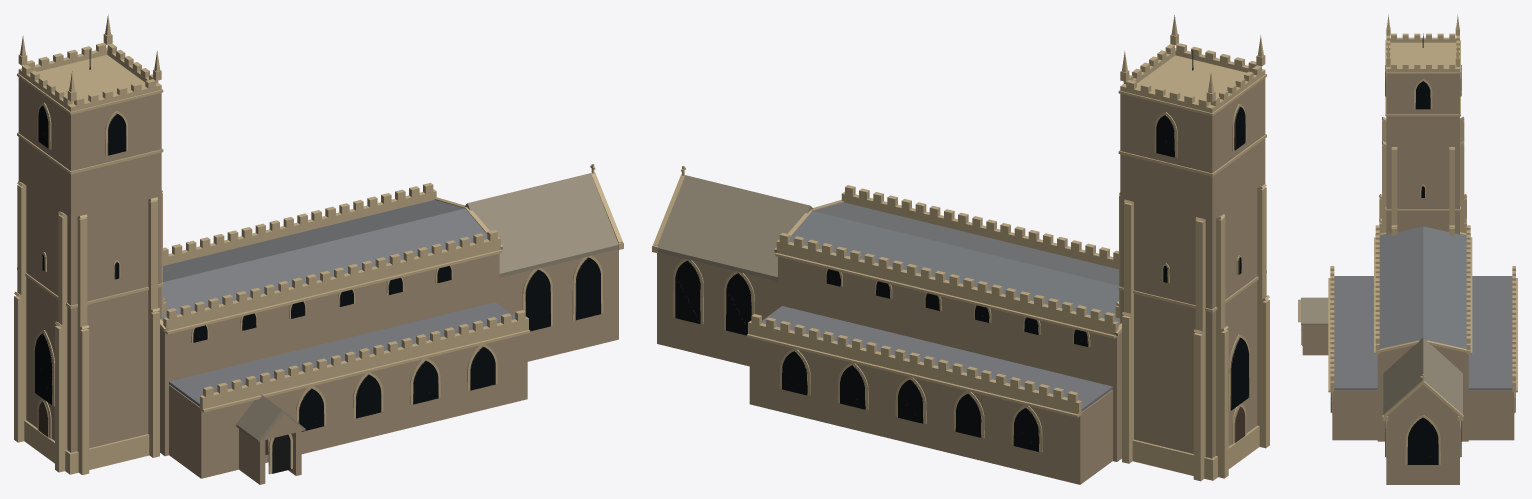
File: context.church.cots_wool.glb
3 renders of one model, left to right at view 1: azimuth 30°, elevation 25°; view 2: azimuth 150°, elevation 25°; view 3: azimuth 270°, elevation 25°, orthographic. The views are drawn at different scales.
Visible parts, largest first — view 1: main__stone_a97, main__stone_ca8, main__clad_778, main__clad_987, main__glass_dark, main__stone_986, main__timber_111; view 2: main__stone_a97, main__stone_ca8, main__clad_778, main__glass_dark, main__clad_987, main__stone_986; view 3: main__stone_a97, main__clad_778, main__stone_ca8, main__clad_987, main__glass_dark, main__stone_986.
Boxes of the visible parts, box(x1,y1,x2,y2) form: main__stone_a97: box(18, 77, 618, 484); main__stone_ca8: box(14, 14, 623, 474); main__clad_778: box(161, 200, 515, 406); main__clad_987: box(236, 173, 620, 442); main__glass_dark: box(34, 105, 600, 431); main__stone_986: box(34, 105, 601, 469); main__timber_111: box(272, 434, 290, 473); main__stone_a97: box(657, 78, 1265, 484); main__stone_ca8: box(652, 15, 1269, 481); main__clad_778: box(762, 202, 1120, 412); main__glass_dark: box(675, 106, 1249, 451); main__clad_987: box(655, 175, 813, 281); main__stone_986: box(675, 106, 1249, 451); main__stone_a97: box(1298, 74, 1514, 484); main__clad_778: box(1334, 226, 1512, 390); main__stone_ca8: box(1302, 14, 1517, 464); main__clad_987: box(1301, 297, 1462, 414); main__glass_dark: box(1331, 65, 1515, 464); main__stone_986: box(1301, 65, 1515, 456).
Bounding box in the file's own units: 40.07 × 27.47 × 19.33.
